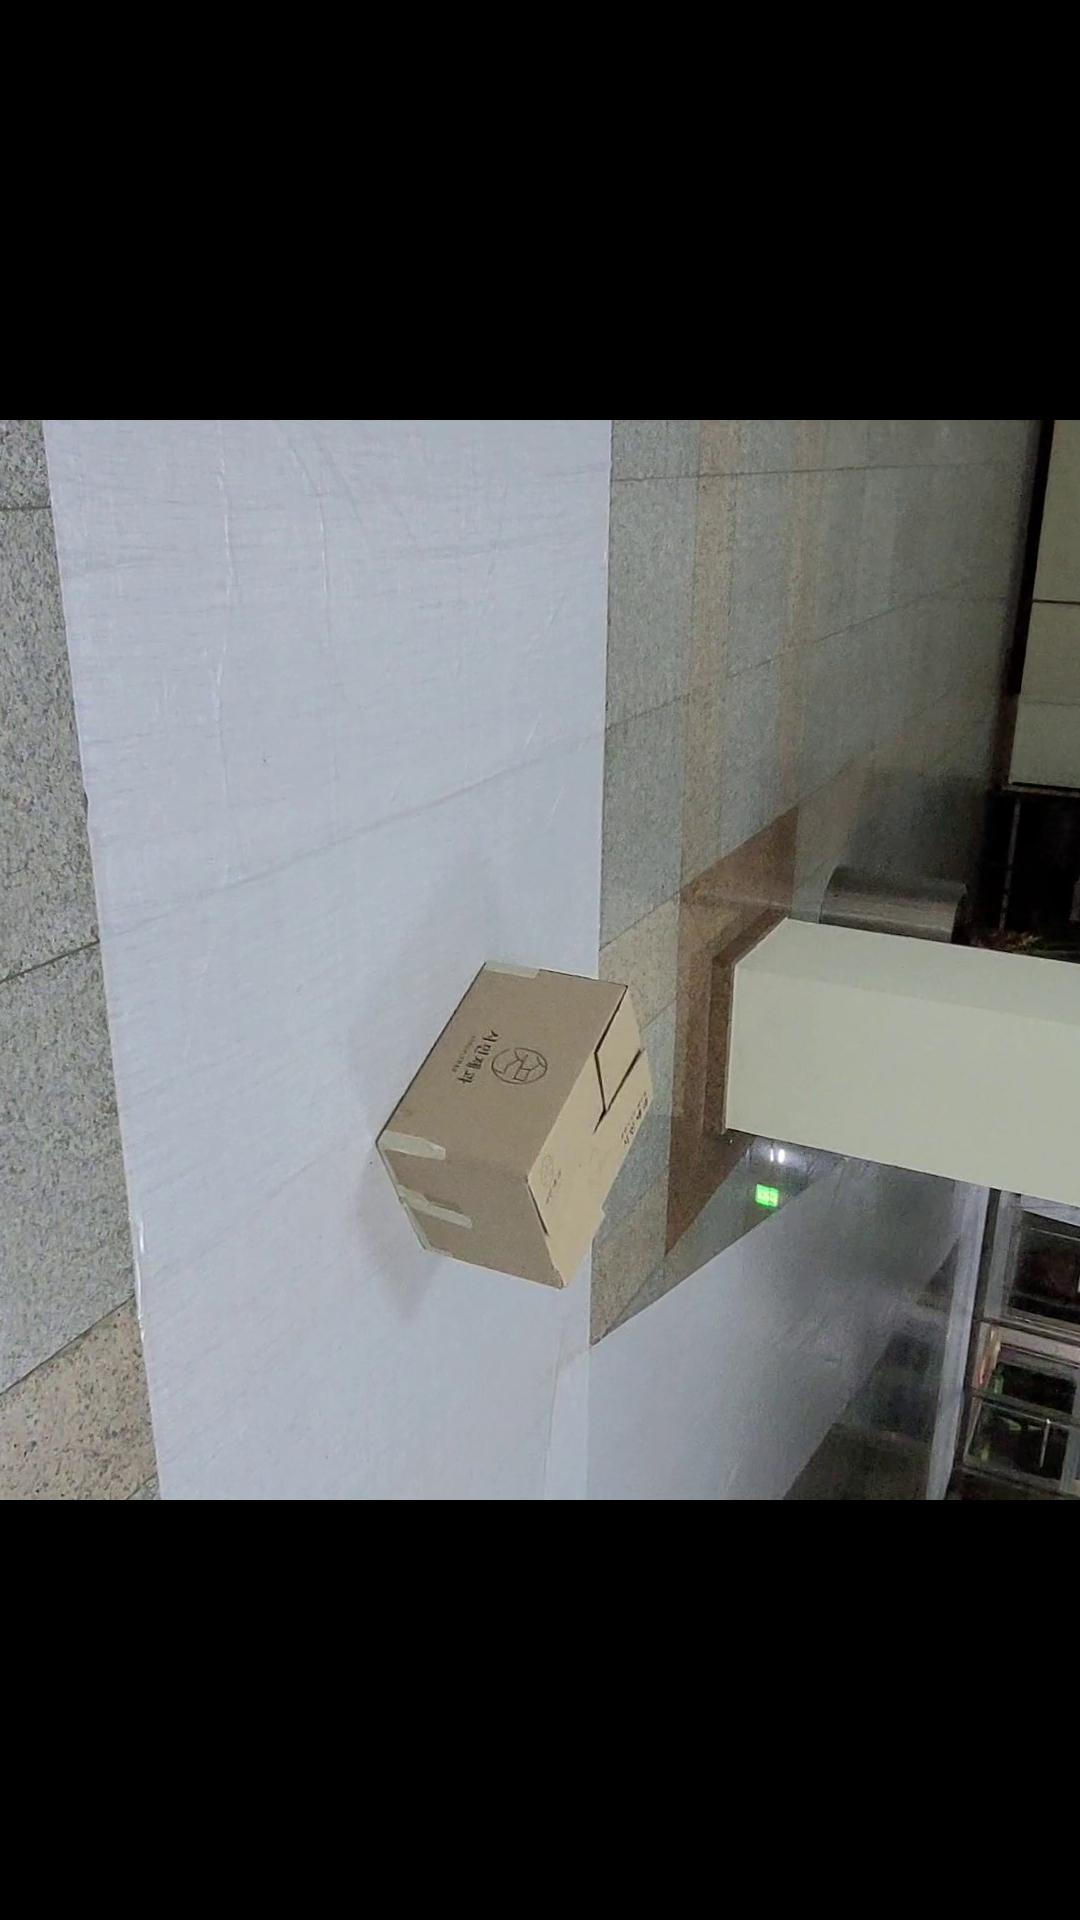Box: (324, 926, 680, 1352)
